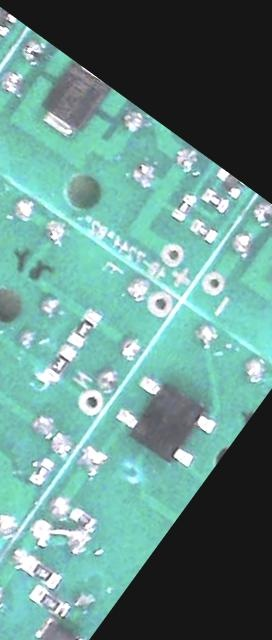chip-resistor: (28, 581, 74, 622), (21, 553, 63, 591), (66, 306, 103, 348), (43, 342, 78, 381), (170, 191, 198, 222), (200, 186, 231, 214), (29, 455, 56, 487), (189, 218, 219, 245), (68, 504, 98, 531)
diode: (36, 60, 112, 140), (33, 613, 87, 640)
ic: (110, 367, 221, 473)
transistor: (211, 167, 247, 200)
